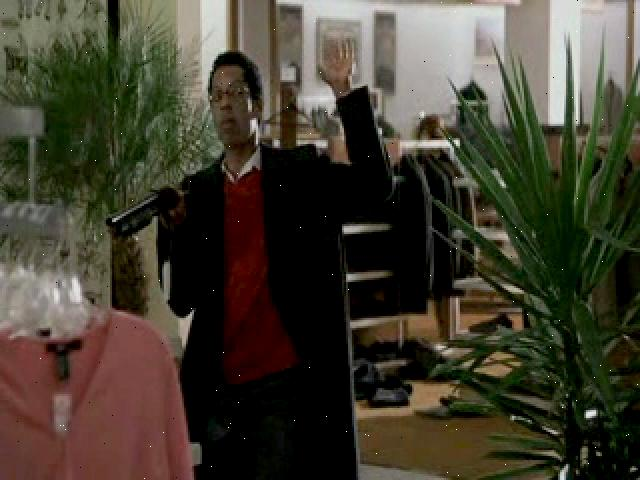L: (122, 39, 395, 480)
